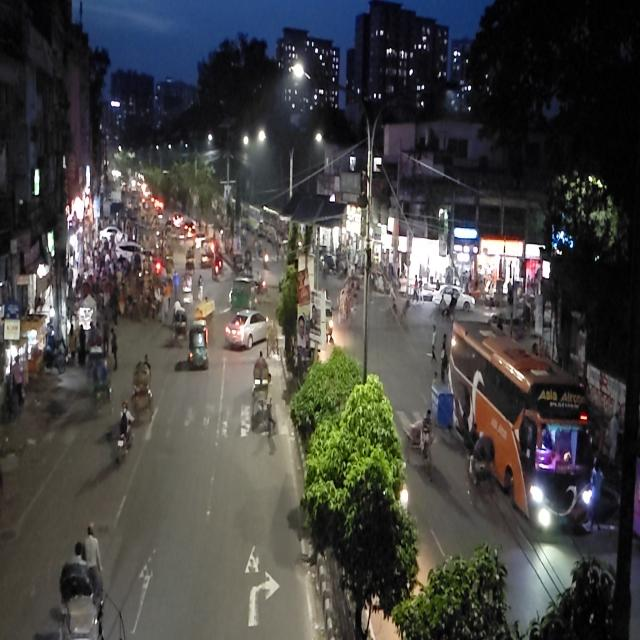silver: (219, 310, 275, 351)
